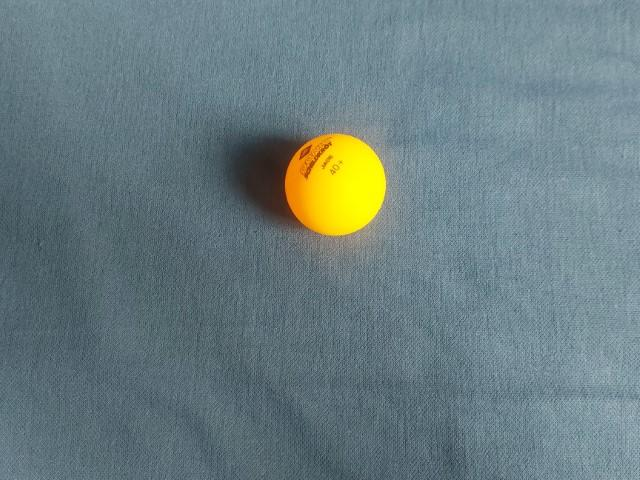oball: (248, 242, 359, 351)
